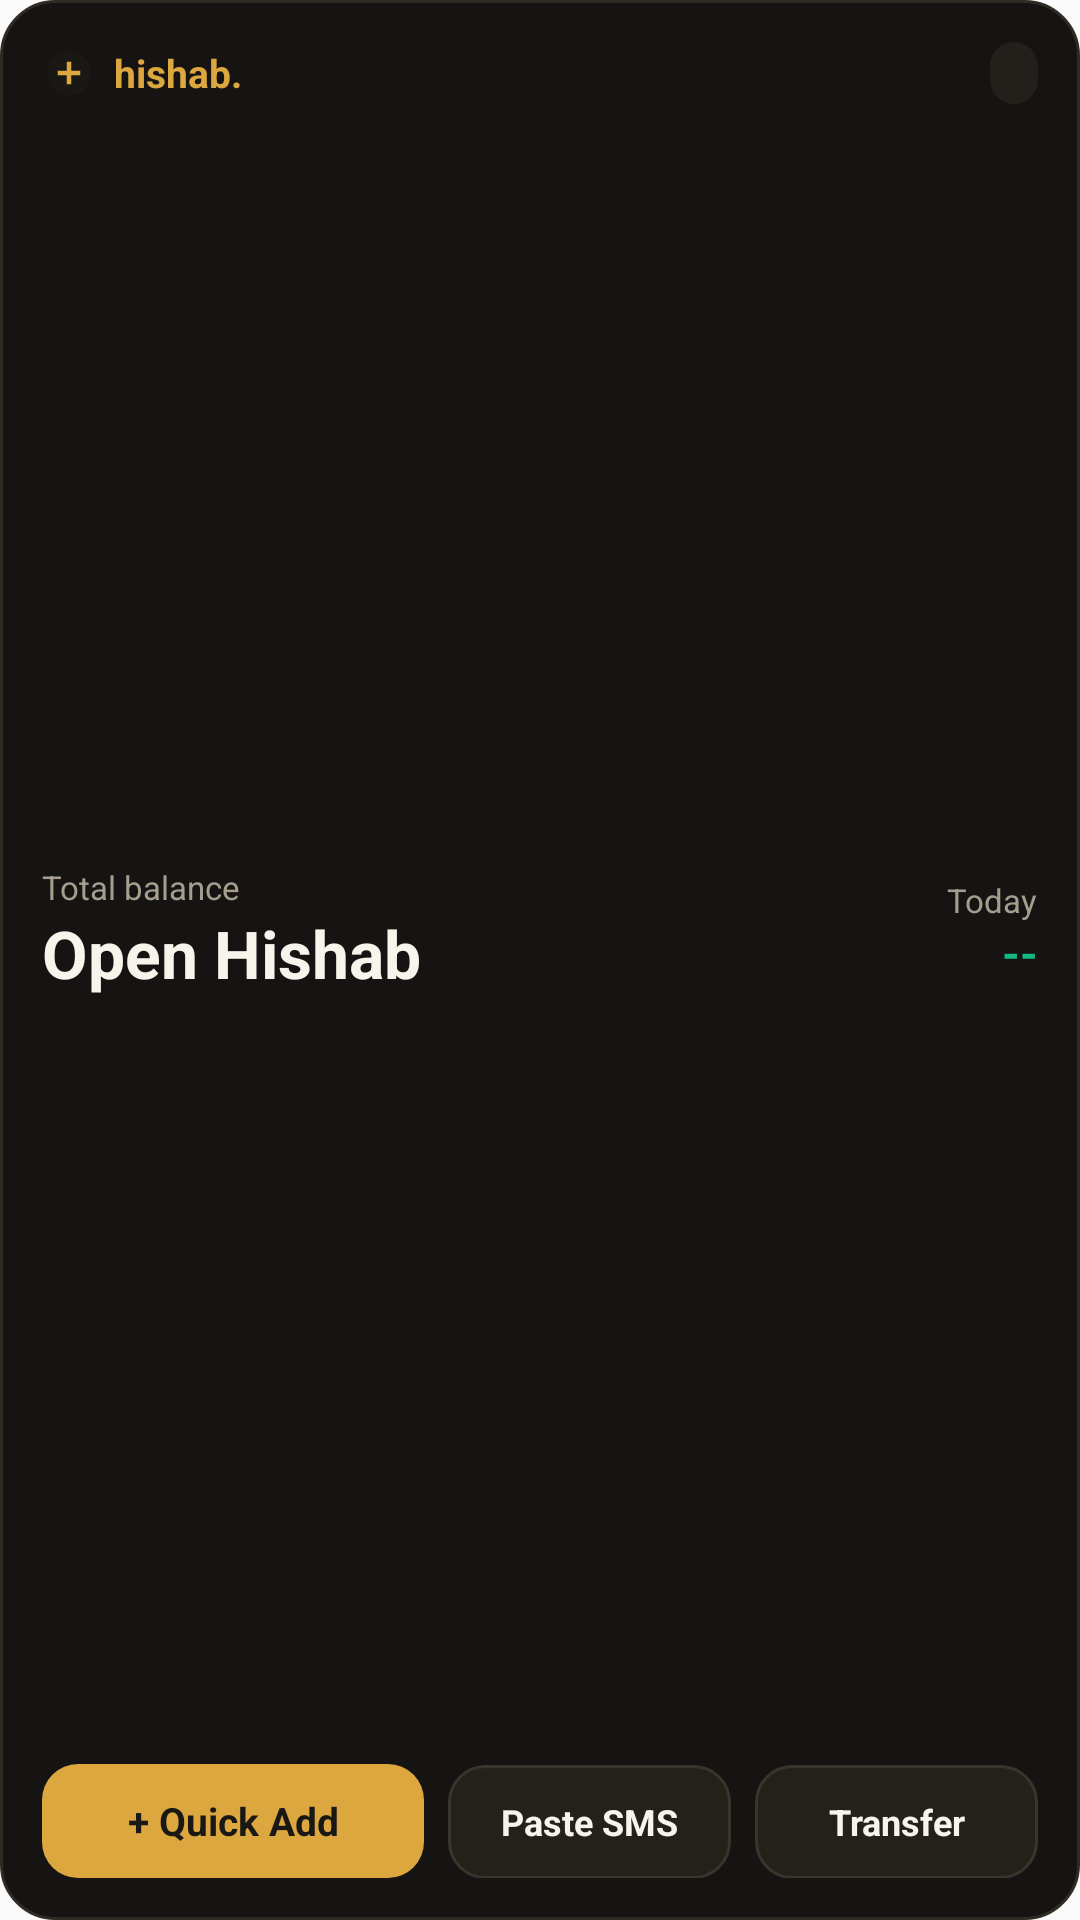

Icon bounding boxes for this 1080 x 1920 phone screenshot, format [x1=x1, y1=y1, x2=x2, y2=y2]:
shortcut add: [x1=57, y1=61, x2=81, y2=85]
